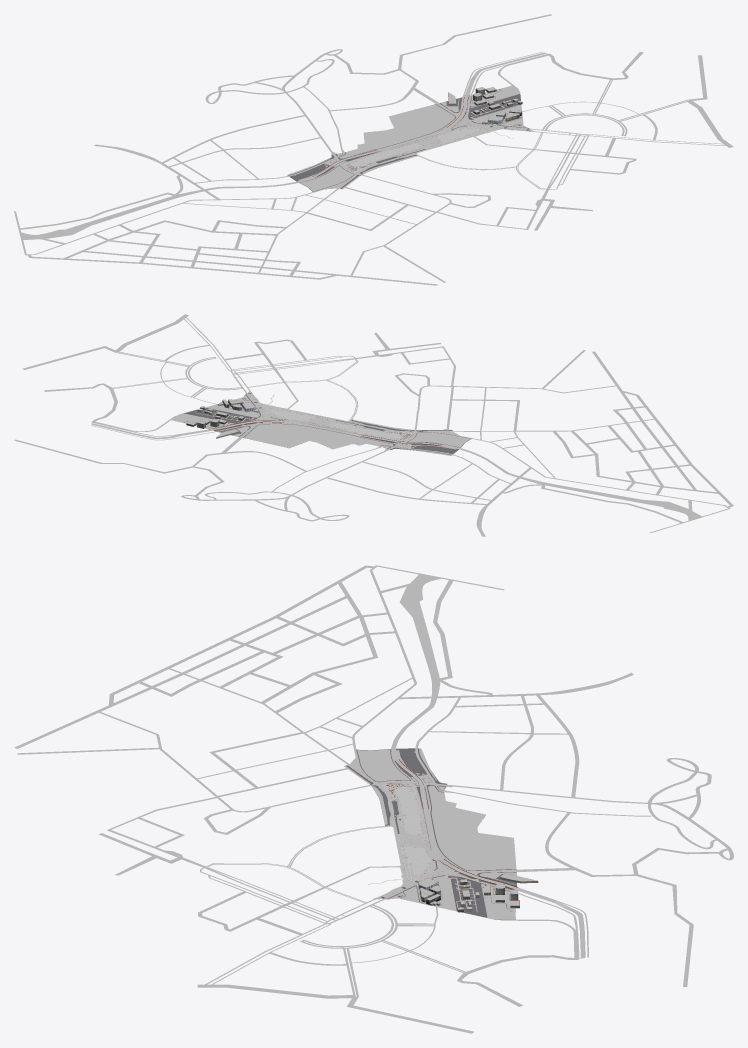
The model's file is MODEL_Environment.fbx.
The picture shows the model from 3 angles, top to bottom: view 1: azimuth 30°, elevation 25°; view 2: azimuth 150°, elevation 25°; view 3: azimuth 270°, elevation 25°; orthographic projection. The views are drawn at different scales.
Parts seen in each view (by area): view 1: SM_LHMNV_Asphalt_Far, SM_LHMNV_Asphalt, SM_Grass, SM_LHMNV_Pavement, SM_Building_Proekt; view 2: SM_LHMNV_Asphalt_Far, SM_LHMNV_Asphalt, SM_Grass, SM_LHMNV_Pavement, SM_Building_Proekt; view 3: SM_LHMNV_Asphalt_Far, SM_LHMNV_Asphalt, SM_Grass, SM_LHMNV_Pavement, SM_Building_Proekt.
Part boxes in pixels (x1,y1,x2,y2): SM_LHMNV_Asphalt_Far: (14, 14, 733, 285); SM_LHMNV_Asphalt: (213, 79, 653, 216); SM_Grass: (287, 85, 532, 191); SM_LHMNV_Pavement: (288, 89, 529, 191); SM_Building_Proekt: (446, 87, 522, 125); SM_LHMNV_Asphalt_Far: (14, 314, 733, 536); SM_LHMNV_Asphalt: (160, 344, 517, 494); SM_Grass: (171, 391, 470, 455); SM_LHMNV_Pavement: (184, 393, 471, 455); SM_Building_Proekt: (186, 397, 258, 438); SM_LHMNV_Asphalt_Far: (14, 565, 733, 1033); SM_LHMNV_Asphalt: (231, 725, 574, 963); SM_Grass: (344, 748, 516, 919); SM_LHMNV_Pavement: (346, 748, 516, 917); SM_Building_Proekt: (398, 873, 538, 912).
Size of the model in its own units: 6226 by 44.06 by 4042.
